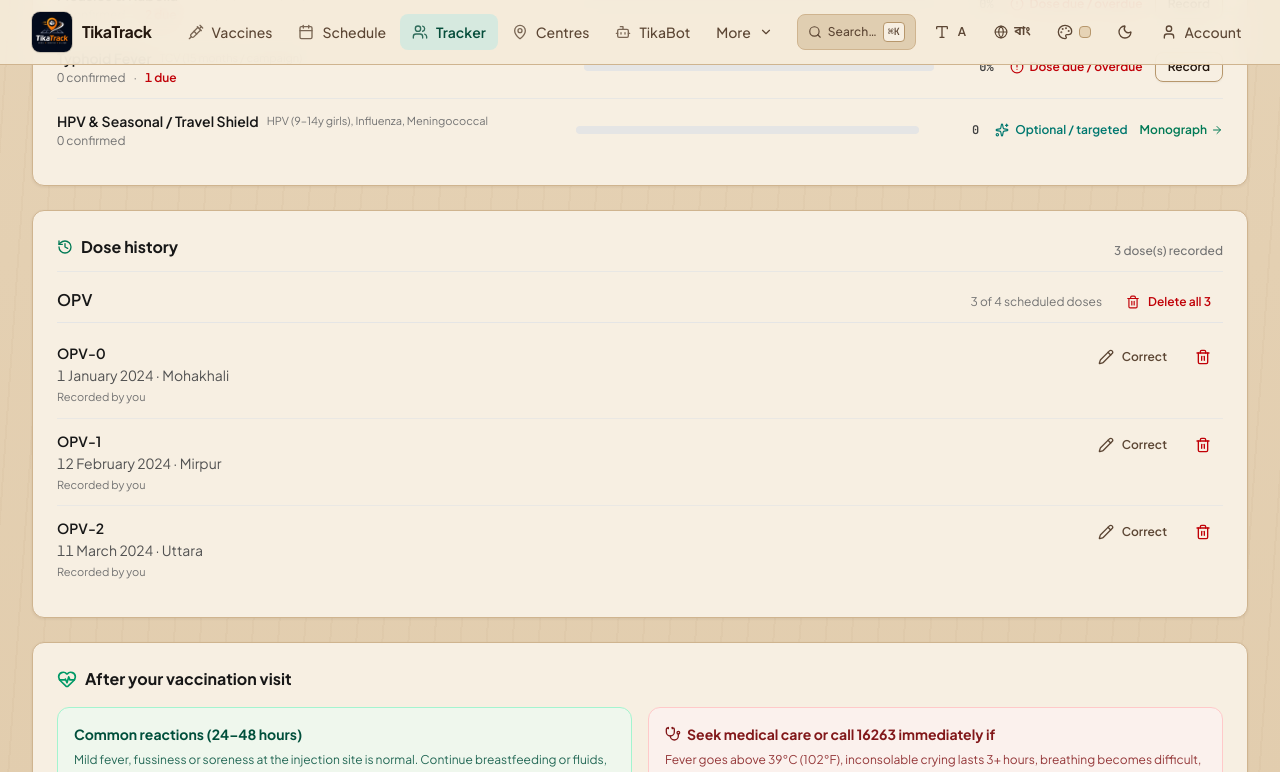
it: correcting and deleting a dose from the history › corrects one date and leaves the other doses untouched
The width and height of the screenshot is (1280, 772).
(page scrolled)
Click the button "Correct" in the row of "· Mirpur".
click(1132, 444)  # box [1086, 430, 1179, 458]
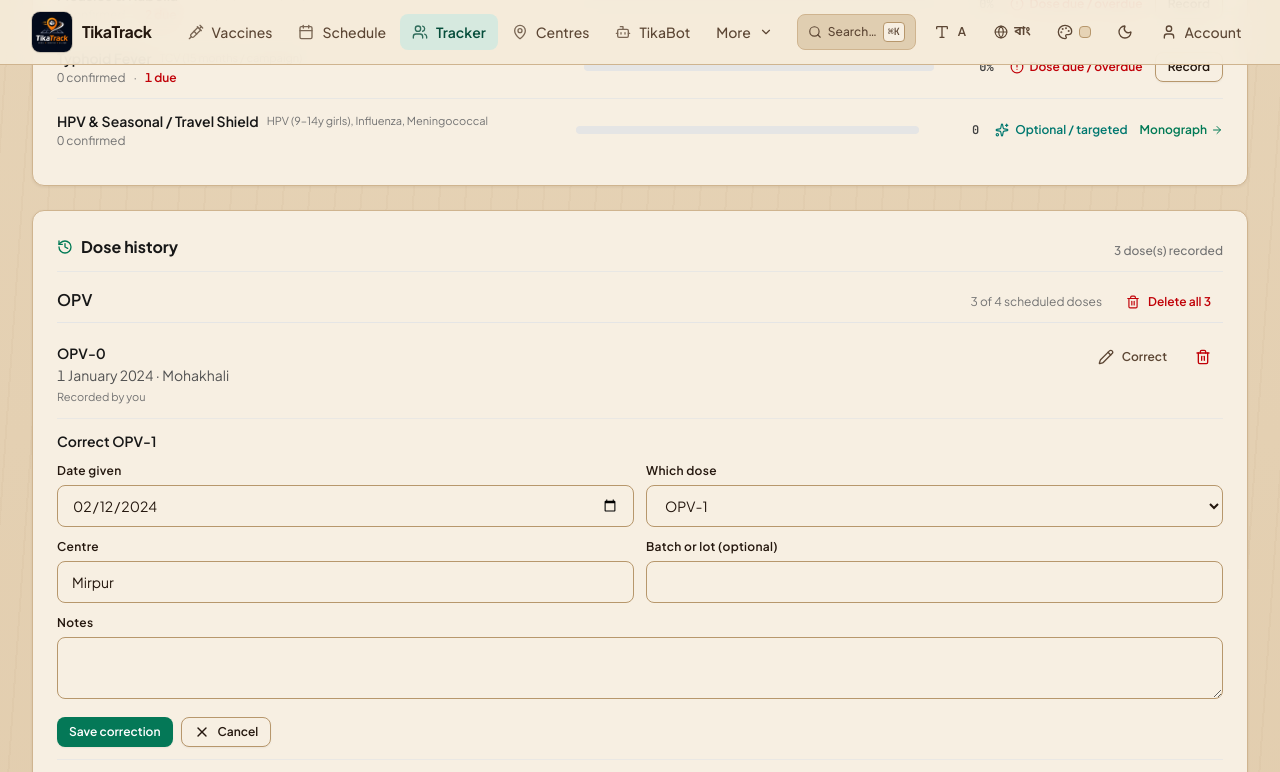
Type "2024-02-20" into the date field labelled "Date given".
click(346, 506); type("2024-02-20")  # box [57, 484, 634, 526]
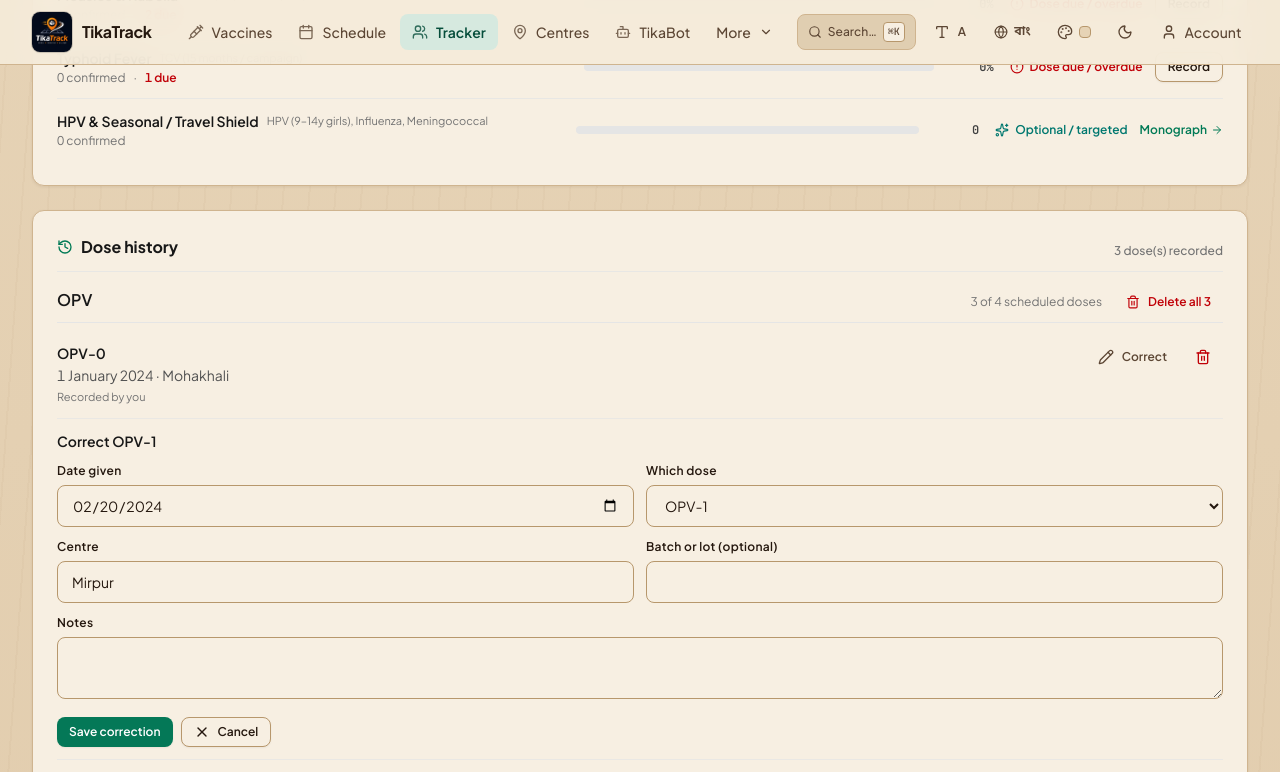
Click the button "Save correction".
click(115, 732)  # box [57, 716, 172, 746]
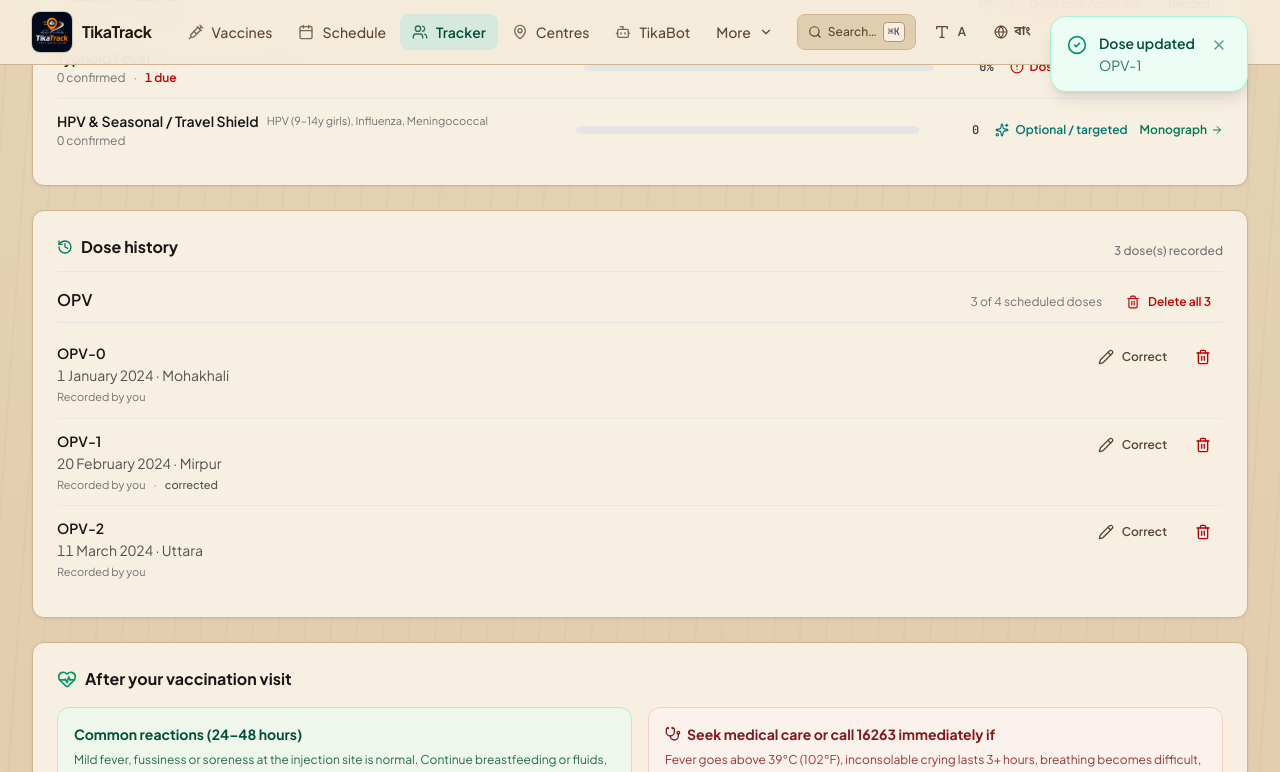
Expected: the text "Dose updated" is shown, [1099, 33, 1195, 53]
